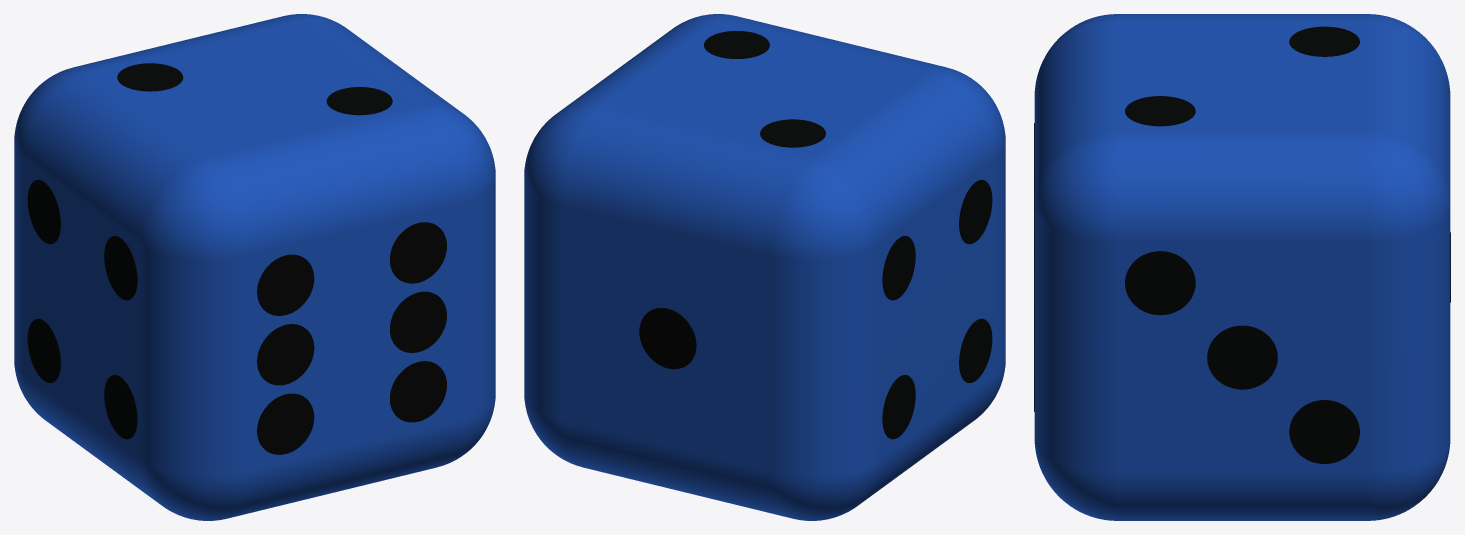
The picture shows the model from 3 angles, left to right: view 1: azimuth 30°, elevation 25°; view 2: azimuth 150°, elevation 25°; view 3: azimuth 270°, elevation 25°; orthographic projection. The views are drawn at different scales.
Visible parts, largest first — view 1: part_015_Foam_body, part_012_Front_pip_3, part_014_Front_pip_1, part_013_Front_pip_2, part_010_Front_pip_5, part_011_Front_pip_4, part_009_Front_pip_6, part_006_Left_pip_3, part_005_Left_pip_4, part_008_Left_pip_1, part_007_Left_pip_2, part_001_Top_pip_1 (+1 smaller); view 2: part_015_Foam_body, part_021_Back_pip_1, part_008_Left_pip_1, part_007_Left_pip_2, part_006_Left_pip_3, part_005_Left_pip_4, part_001_Top_pip_1, part_000_Top_pip_2; view 3: part_015_Foam_body, part_004_Right_pip_1, part_003_Right_pip_2, part_002_Right_pip_3, part_000_Top_pip_2, part_001_Top_pip_1.
Boxes of the visible parts, x1,y1,x2,y2 form: part_015_Foam_body: [14, 14, 495, 520]; part_012_Front_pip_3: [257, 254, 314, 315]; part_014_Front_pip_1: [257, 393, 314, 454]; part_013_Front_pip_2: [257, 324, 314, 385]; part_010_Front_pip_5: [390, 291, 446, 352]; part_011_Front_pip_4: [390, 361, 446, 422]; part_009_Front_pip_6: [390, 222, 446, 283]; part_006_Left_pip_3: [104, 375, 137, 439]; part_005_Left_pip_4: [104, 236, 137, 300]; part_008_Left_pip_1: [27, 318, 60, 382]; part_007_Left_pip_2: [27, 179, 60, 244]; part_001_Top_pip_1: [117, 63, 183, 91]; part_015_Foam_body: [524, 14, 1005, 520]; part_021_Back_pip_1: [639, 308, 696, 369]; part_008_Left_pip_1: [882, 375, 915, 439]; part_007_Left_pip_2: [882, 236, 915, 300]; part_006_Left_pip_3: [959, 318, 992, 382]; part_005_Left_pip_4: [959, 179, 992, 244]; part_001_Top_pip_1: [760, 119, 825, 147]; part_000_Top_pip_2: [704, 31, 769, 58]; part_015_Foam_body: [1034, 14, 1450, 520]; part_004_Right_pip_1: [1125, 251, 1195, 315]; part_003_Right_pip_2: [1207, 325, 1277, 389]; part_002_Right_pip_3: [1289, 400, 1359, 463]; part_000_Top_pip_2: [1125, 96, 1195, 126]; part_001_Top_pip_1: [1289, 26, 1359, 56].
Bounding box in the file's own units: 0.0822 × 0.0812 × 0.0802.
